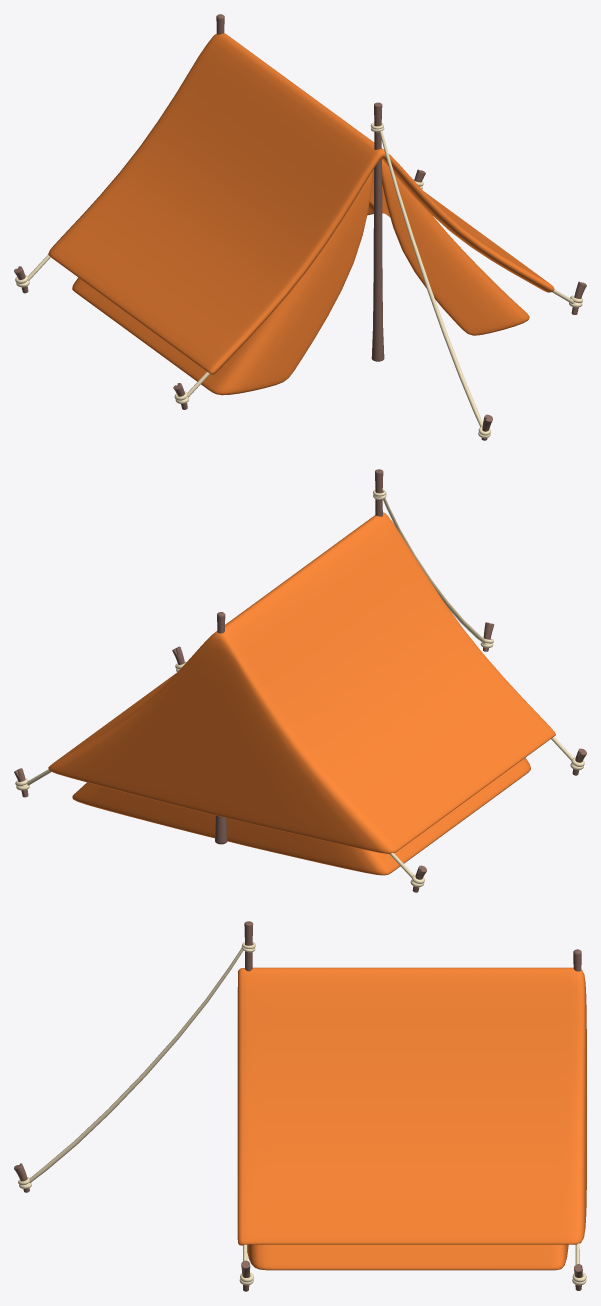
Rendered from camping_tent.glb.
The picture shows the model from 3 angles, top to bottom: view 1: azimuth 30°, elevation 25°; view 2: azimuth 150°, elevation 25°; view 3: azimuth 270°, elevation 25°; orthographic projection. The views are drawn at different scales.
Visible parts, largest first — view 1: Part 1_6, Part 2_25, Stake 6_7, Rope 1_14; view 2: Part 1_6, Part 2_25, Rope 1_14; view 3: Part 1_6, Part 2_25, Rope 1_14.
Boxes of the visible parts, x1,y1,x2,y2 form: Part 1_6: (48, 33, 554, 374); Part 2_25: (72, 160, 529, 395); Stake 6_7: (371, 102, 384, 361); Rope 1_14: (379, 130, 482, 426); Part 1_6: (48, 512, 555, 853); Part 2_25: (72, 758, 530, 875); Rope 1_14: (383, 498, 485, 643); Part 1_6: (237, 967, 586, 1245); Part 2_25: (247, 1244, 568, 1270); Rope 1_14: (29, 948, 243, 1182).
Bounding box in the file's own units: 2.01 × 1.2 × 2.32.
